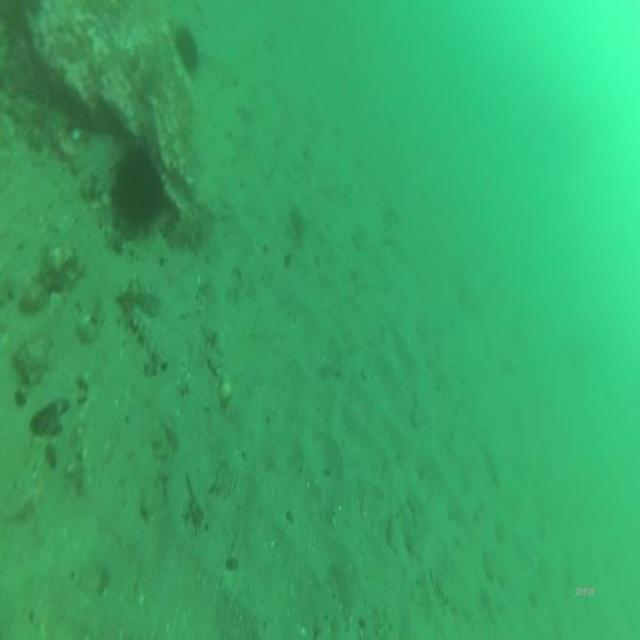echinus: (109, 137, 164, 230), (173, 21, 201, 82)
holothurian: (162, 199, 215, 253), (131, 303, 168, 373), (116, 272, 162, 319)
